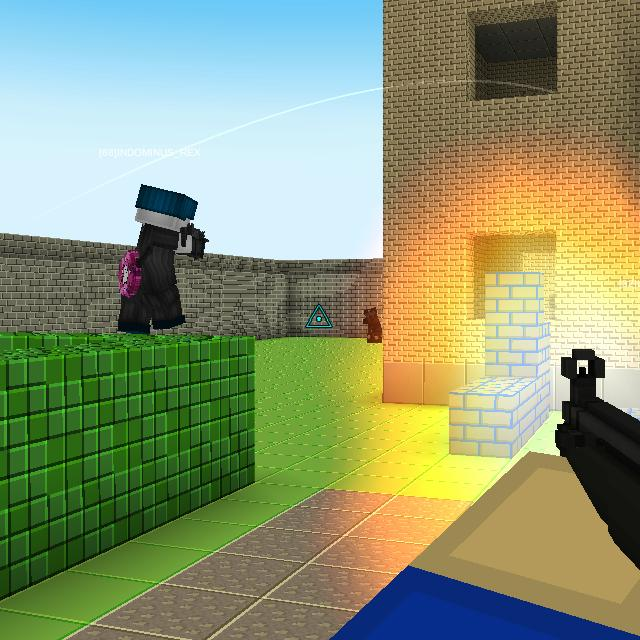enemy: (362, 307, 382, 344)
